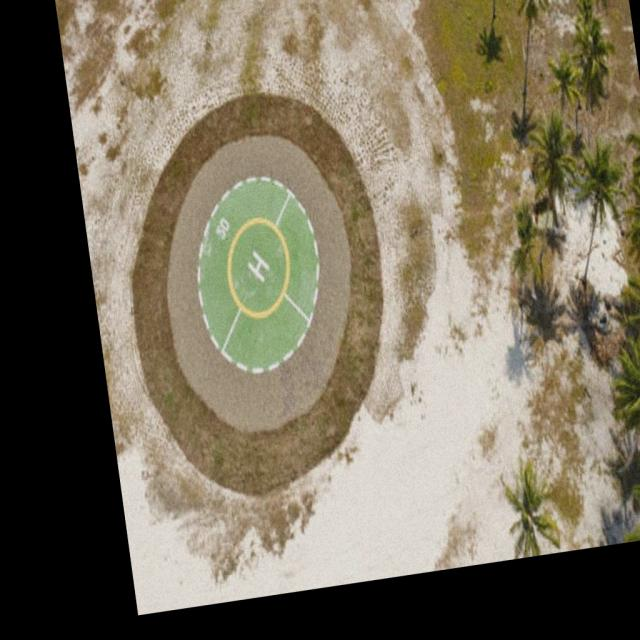helipad: (224, 211, 293, 321)
